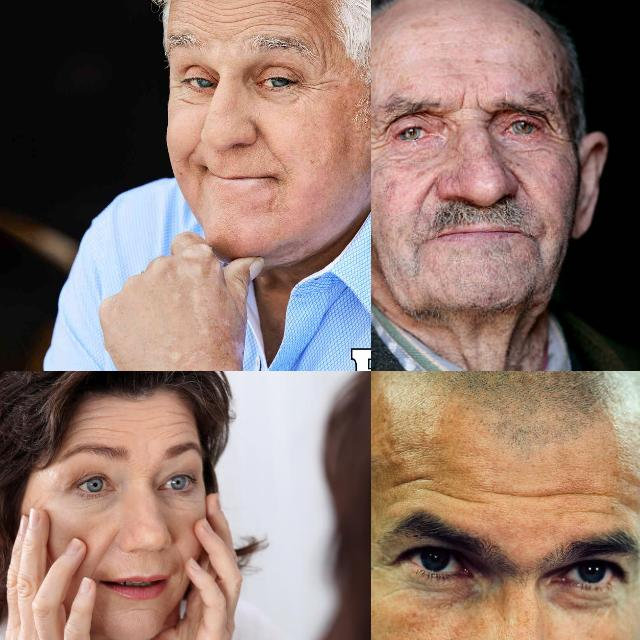chin: (124, 603, 154, 617)
crows_feet: (304, 74, 336, 100), (544, 114, 566, 150), (371, 121, 391, 155), (171, 74, 183, 98)
forehead: (500, 480, 626, 518), (392, 472, 482, 508), (299, 0, 340, 55), (228, 0, 287, 30), (154, 404, 192, 441), (76, 409, 118, 438), (179, 0, 218, 31)
frown_line: (456, 90, 484, 116)
gummy_smile: (255, 128, 289, 172), (510, 166, 532, 200), (418, 175, 438, 211), (181, 141, 201, 171), (96, 535, 114, 565)
